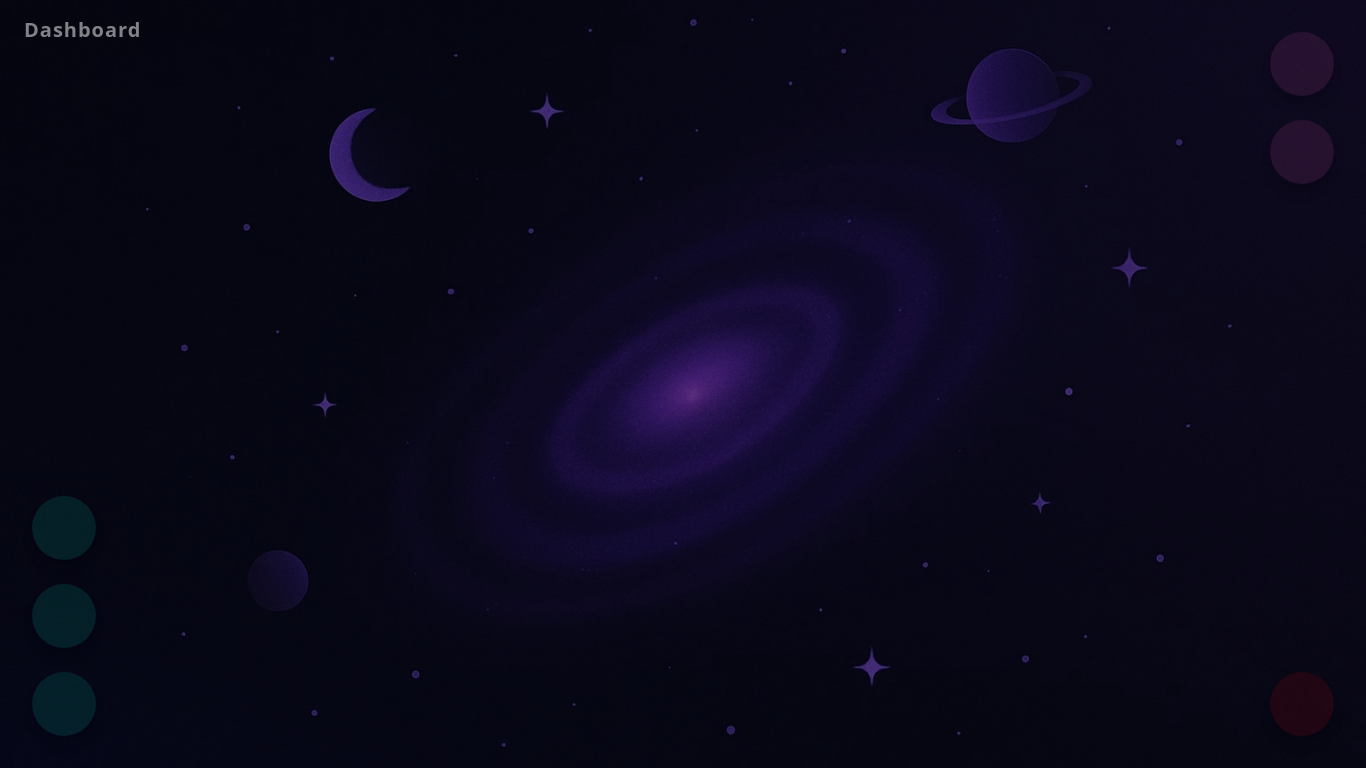
Test: 📊 Dashboard Component › 📓 Ouvre le panneau "Mes entrées"
Clique sur le premier bouton (Mes entrées)
Click the 3rd element with class "cursor-pointer". click: coordinates (64, 528)
box: [32,496,96,560]
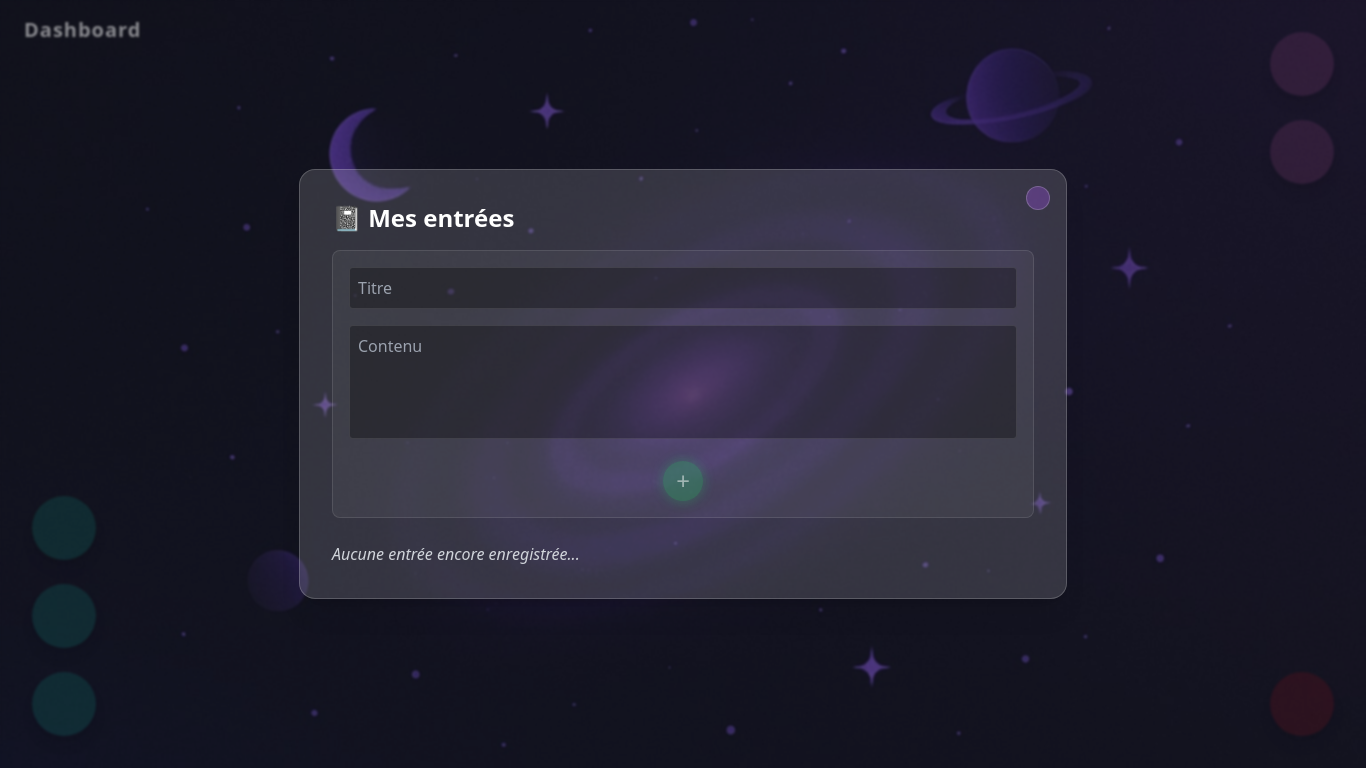
Check: the heading "📓 Mes entrées" is shown, box [332,201,514,234]
